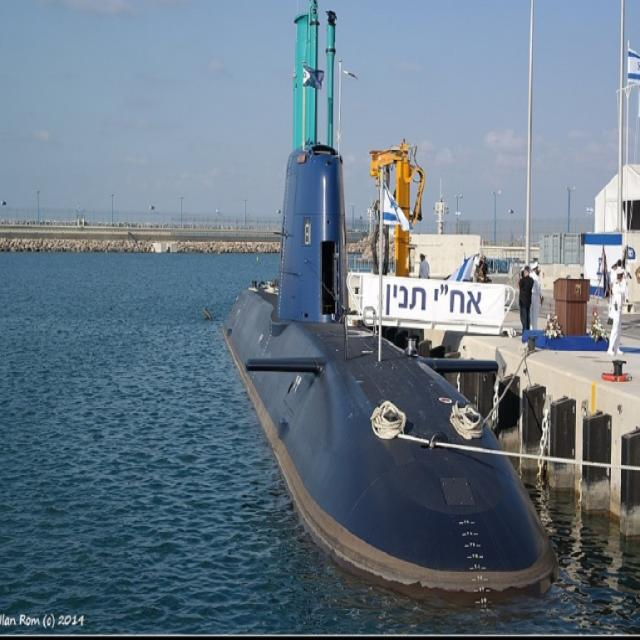submarine: (220, 145, 573, 600)
